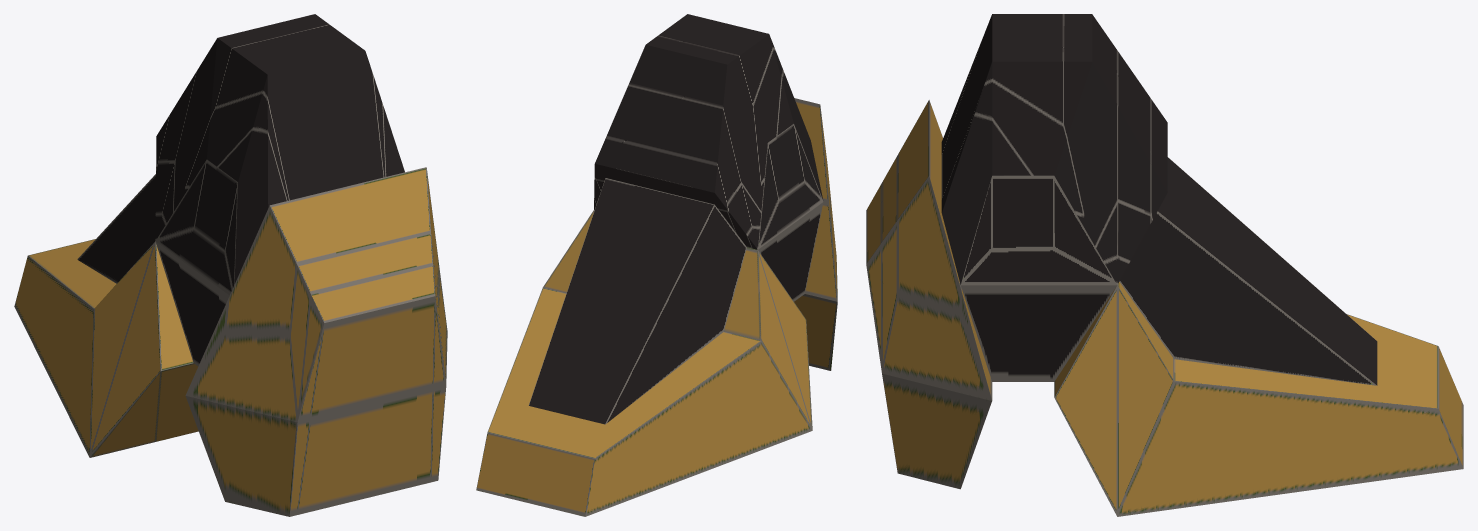
The model's file is RShoes.fbx.
The picture shows the model from 3 angles, left to right: view 1: azimuth 30°, elevation 25°; view 2: azimuth 150°, elevation 25°; view 3: azimuth 270°, elevation 25°; orthographic projection. The views are drawn at different scales.
Parts seen in each view (by area): view 1: Shape_IndexedFaceSet.049, Shape_IndexedFaceSet.047, Shape_IndexedFaceSet.048; view 2: Shape_IndexedFaceSet.049, Shape_IndexedFaceSet.048, Shape_IndexedFaceSet.047; view 3: Shape_IndexedFaceSet.049, Shape_IndexedFaceSet.048, Shape_IndexedFaceSet.047.
Boxes of the visible parts, x1=… form: Shape_IndexedFaceSet.049: x1=14, y1=167, x2=447, y2=516; Shape_IndexedFaceSet.047: x1=155, y1=14, x2=404, y2=283; Shape_IndexedFaceSet.048: x1=77, y1=159, x2=237, y2=366; Shape_IndexedFaceSet.049: x1=476, y1=98, x2=837, y2=516; Shape_IndexedFaceSet.048: x1=528, y1=124, x2=823, y2=424; Shape_IndexedFaceSet.047: x1=594, y1=14, x2=823, y2=249; Shape_IndexedFaceSet.049: x1=866, y1=100, x2=1463, y2=516; Shape_IndexedFaceSet.048: x1=960, y1=157, x2=1377, y2=385; Shape_IndexedFaceSet.047: x1=941, y1=14, x2=1167, y2=284.
Size of the model in its own units: 0.1521 by 0.1779 by 0.2411.
